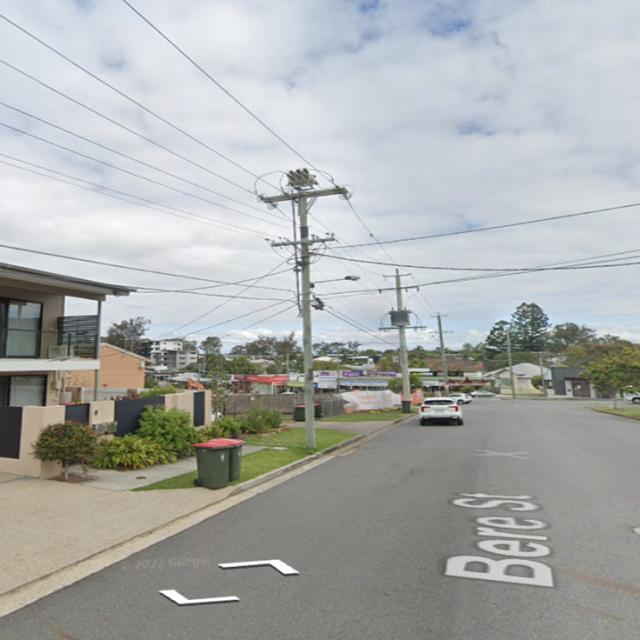HV-switch: (282, 167, 314, 190)
HV-transmission: (256, 186, 351, 210), (378, 268, 420, 295), (428, 311, 454, 336)
crossarm: (262, 187, 346, 201), (265, 190, 348, 203), (271, 237, 335, 247), (378, 325, 427, 331), (378, 285, 419, 291), (382, 273, 412, 278), (431, 312, 449, 317), (429, 331, 453, 334)
streetlight: (310, 275, 360, 284)
timber-pole: (298, 189, 317, 450), (395, 276, 411, 410), (438, 315, 450, 396), (506, 328, 516, 398)
transformer: (389, 306, 411, 326)
